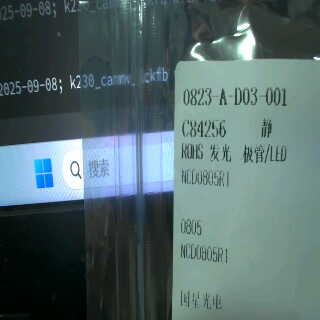LED: (206, 141, 296, 165)
